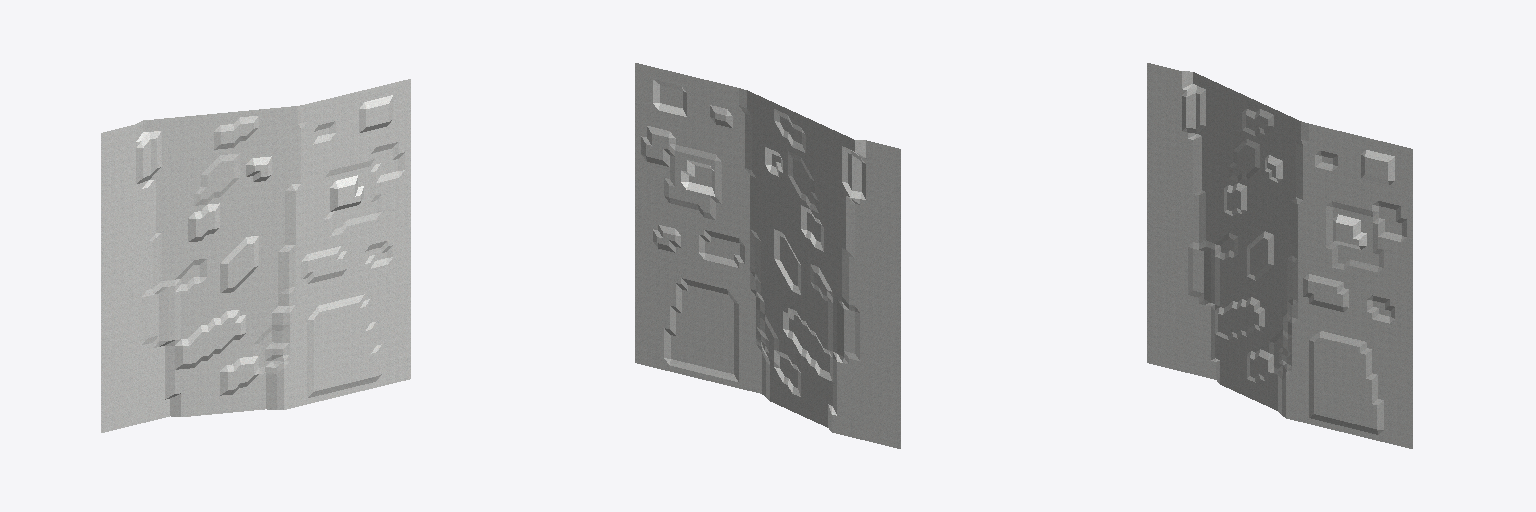
3 renders of one model, left to right at view 1: azimuth 30°, elevation 25°; view 2: azimuth 150°, elevation 25°; view 3: azimuth 330°, elevation 25°, orthographic.
Visible parts, largest first — view 1: pasted__pPlane2; view 2: pasted__pPlane2; view 3: pasted__pPlane2.
Boxes of the visible parts, box(x1,y1,x2,y2) form: pasted__pPlane2: box(101, 79, 410, 432); pasted__pPlane2: box(635, 63, 900, 448); pasted__pPlane2: box(1147, 63, 1412, 448).
Bounding box in the file's own units: 126 × 126 × 20.03.
1 materials, 1 textured.